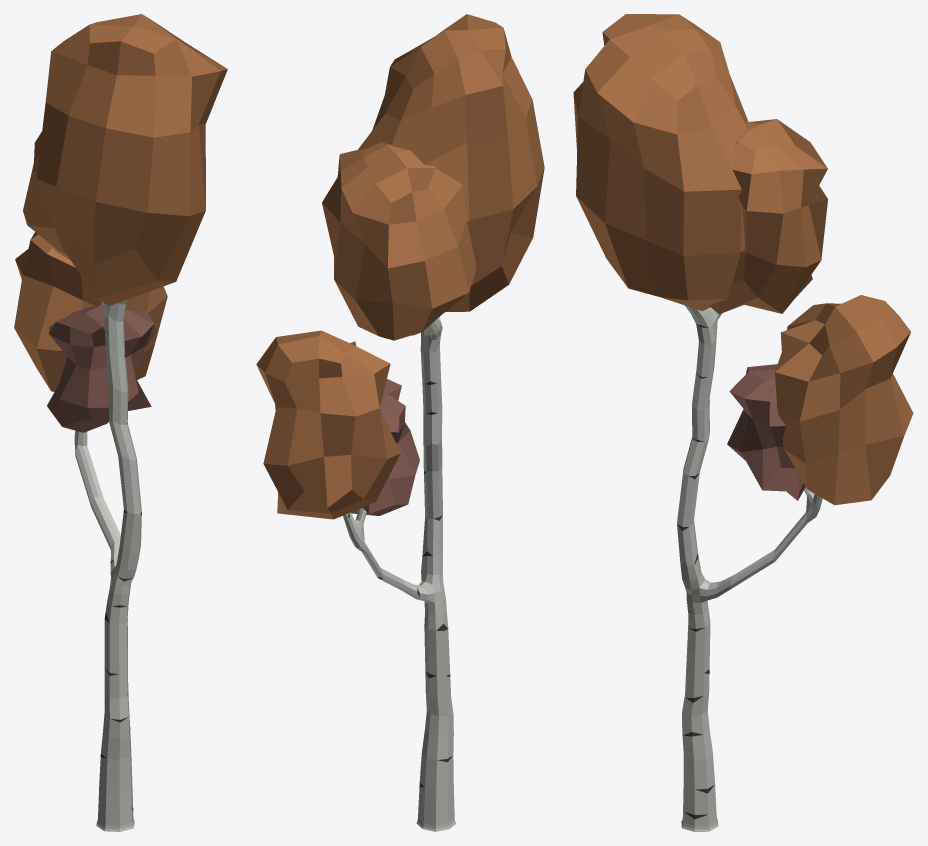
The model's file is birch_autumn5.glb.
3 renders of one model, left to right at view 1: azimuth 30°, elevation 25°; view 2: azimuth 150°, elevation 25°; view 3: azimuth 270°, elevation 25°, orthographic. The views are drawn at different scales.
Visible parts, largest first — view 1: BirchTree_Autumn_5; view 2: BirchTree_Autumn_5; view 3: BirchTree_Autumn_5.
Boxes of the visible parts, x1,y1,x2,y2 form: BirchTree_Autumn_5: (14,14,227,831); BirchTree_Autumn_5: (256,14,544,831); BirchTree_Autumn_5: (573,14,913,831).
Bounding box in the file's own units: 1.19 × 5.01 × 1.93.
